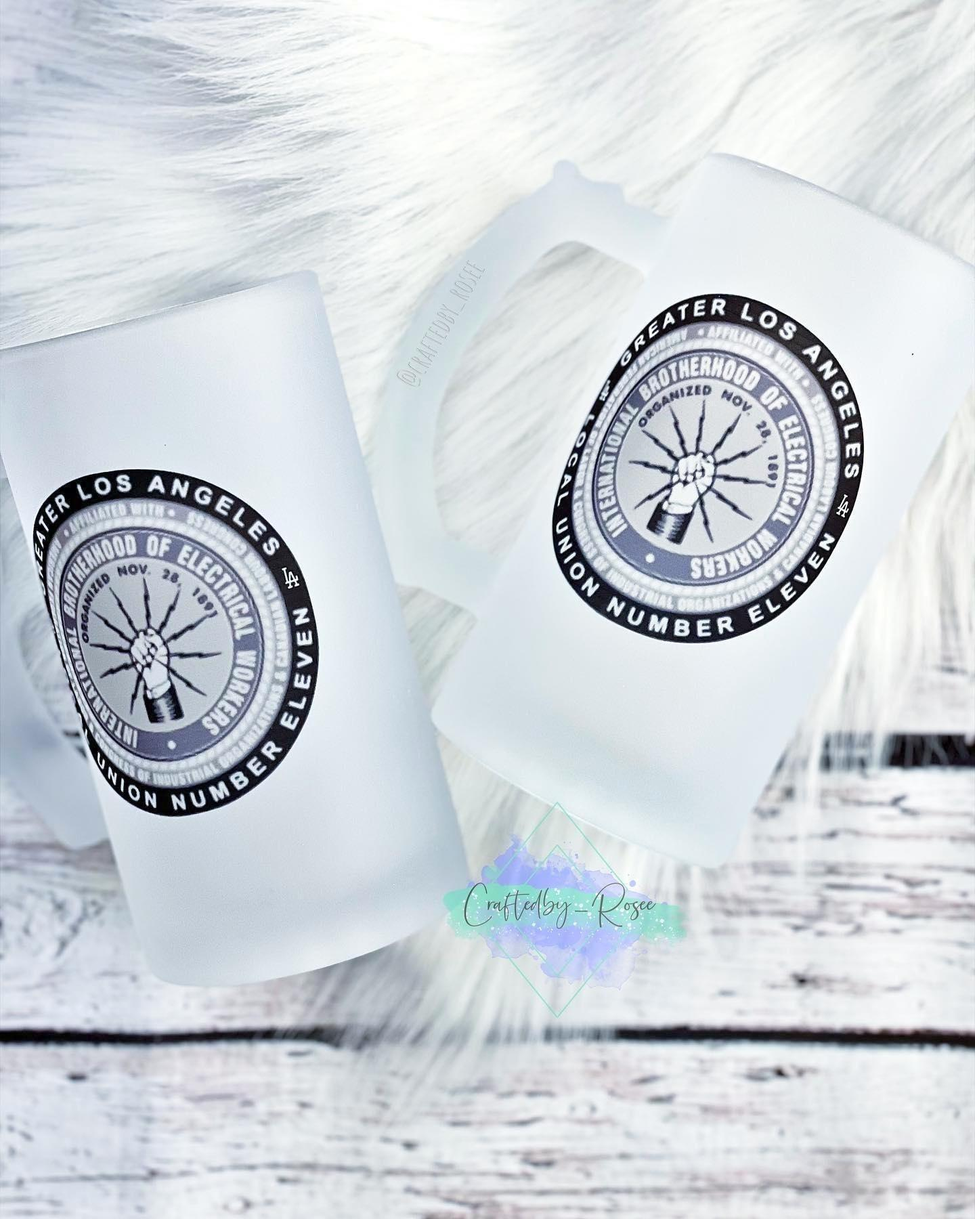glass-mug: (366, 145, 975, 868), (0, 251, 456, 998)
